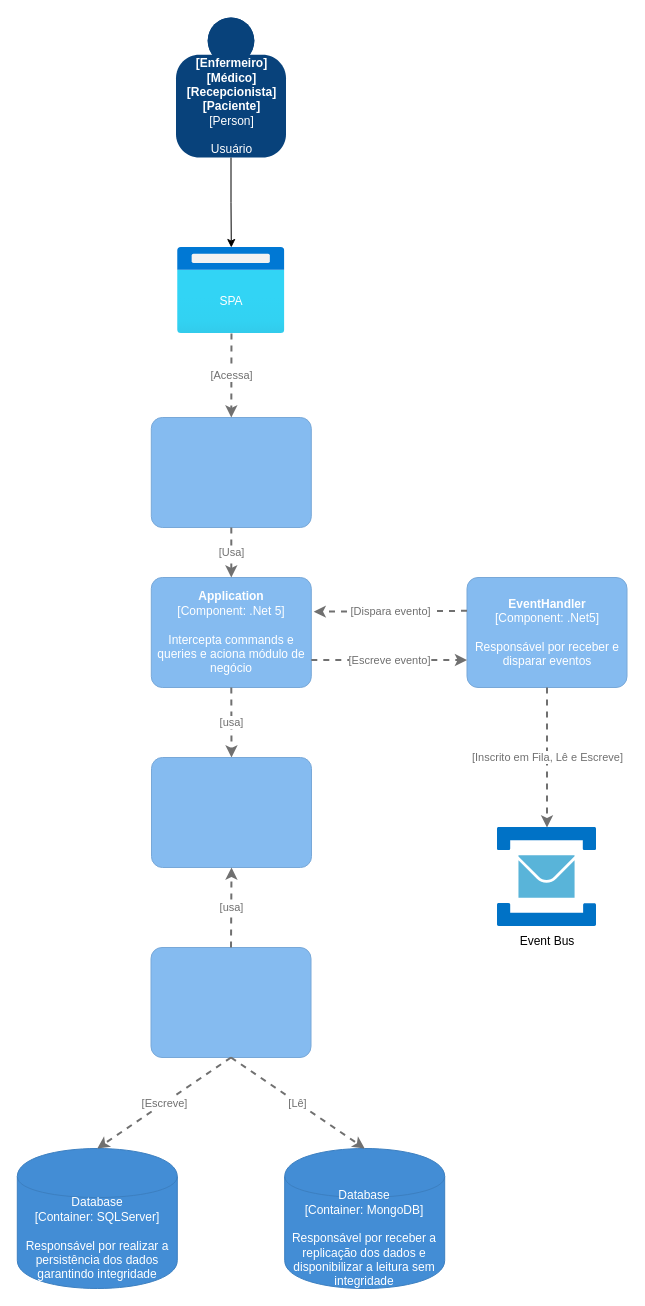
This 645x1306 diagram has some shape labels left out. Each missing label, with the box of its shape:
Controller [Component: .Net5] Permite que o API receba as requisições: (150, 416, 311, 528)
Domain [Component: .Net 5] Domínio de negócio da aplicação: (150, 756, 312, 868)
Infraestrutura [Component: .Net 5] Responsável por realizar acessos IO: (150, 946, 311, 1058)
